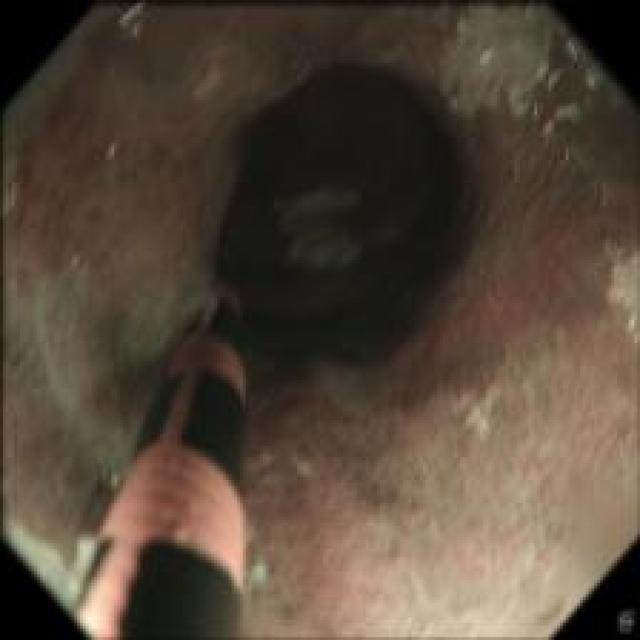blur: (0, 1, 639, 638)
color misalignment: (542, 100, 579, 144), (100, 134, 129, 166), (545, 64, 564, 94)
contrast: (165, 36, 512, 414)
instrument: (76, 284, 251, 636)
saturation: (80, 595, 105, 630)
